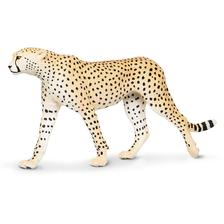Cheetah: (6, 46, 218, 173)
